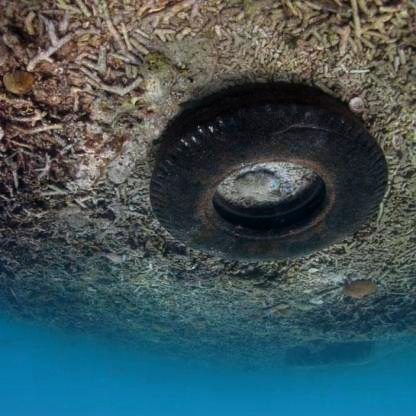tire: (159, 76, 404, 293)
